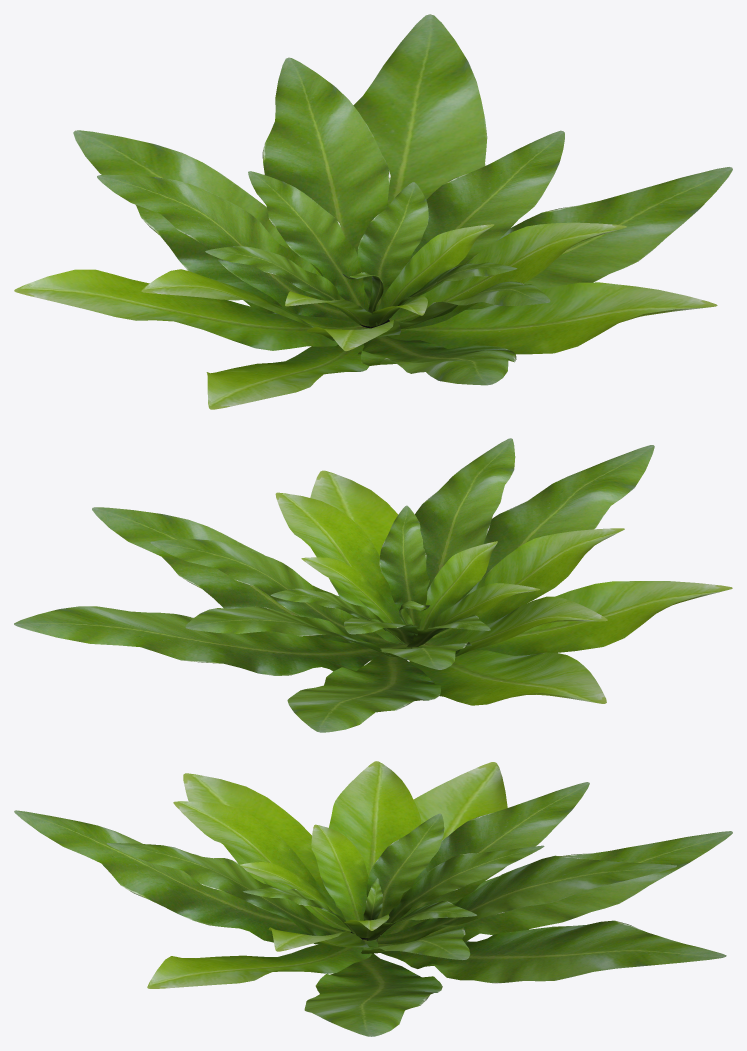
Rendered from aspelenium nidus.fbx.
The picture shows the model from 3 angles, top to bottom: view 1: azimuth 30°, elevation 25°; view 2: azimuth 150°, elevation 25°; view 3: azimuth 270°, elevation 25°; orthographic projection. The views are drawn at different scales.
Visible parts, largest first — view 1: aspelenium nidus; view 2: aspelenium nidus; view 3: aspelenium nidus.
Boxes of the visible parts, box(x1,y1,x2,y2) form: aspelenium nidus: box(14, 14, 732, 409); aspelenium nidus: box(14, 438, 732, 732); aspelenium nidus: box(14, 761, 732, 1036).
Bounding box in the file's own units: 350 × 69.92 × 370.
Materials: 3 (2 with a texture image).
